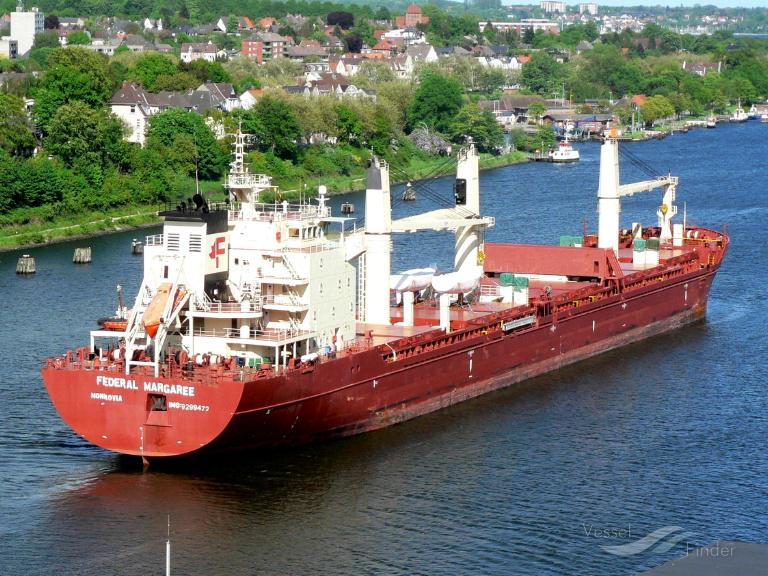OCR: (76, 367, 218, 411)
